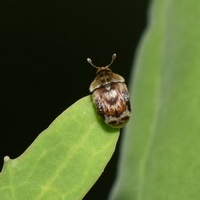insect: (87, 53, 130, 127)
